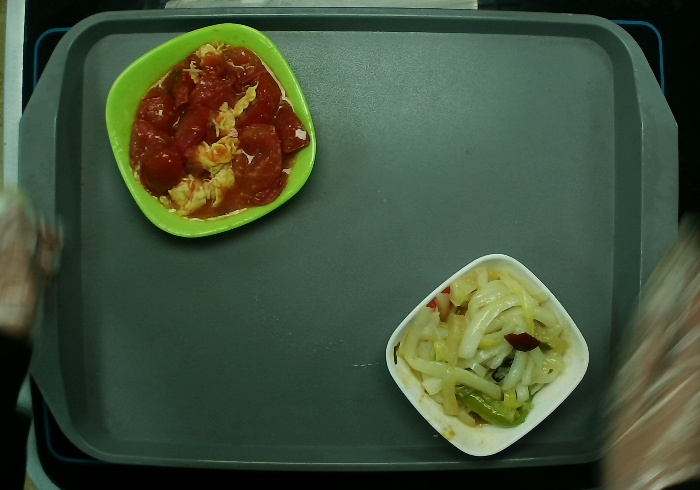SHKJ-Bai_Se_Xiao_Fang_Die: (383, 254, 592, 459)
SHKJ-Lv_Se_Cai_Die: (105, 22, 319, 239)
